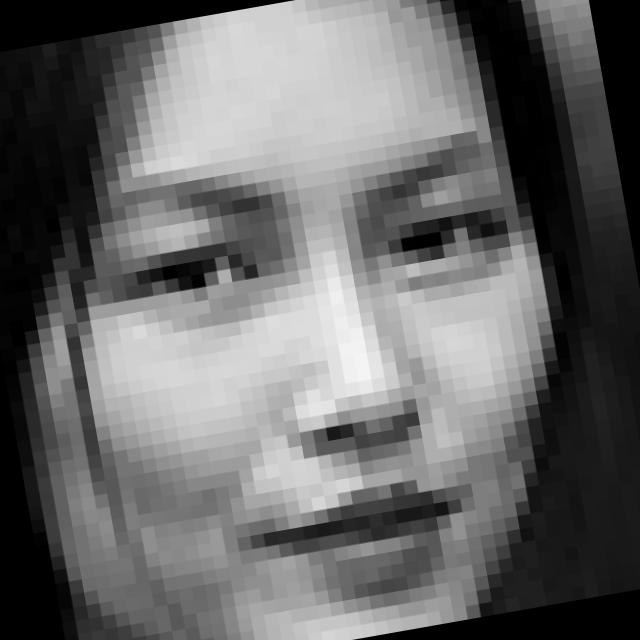neutral: (72, 104, 560, 637)
